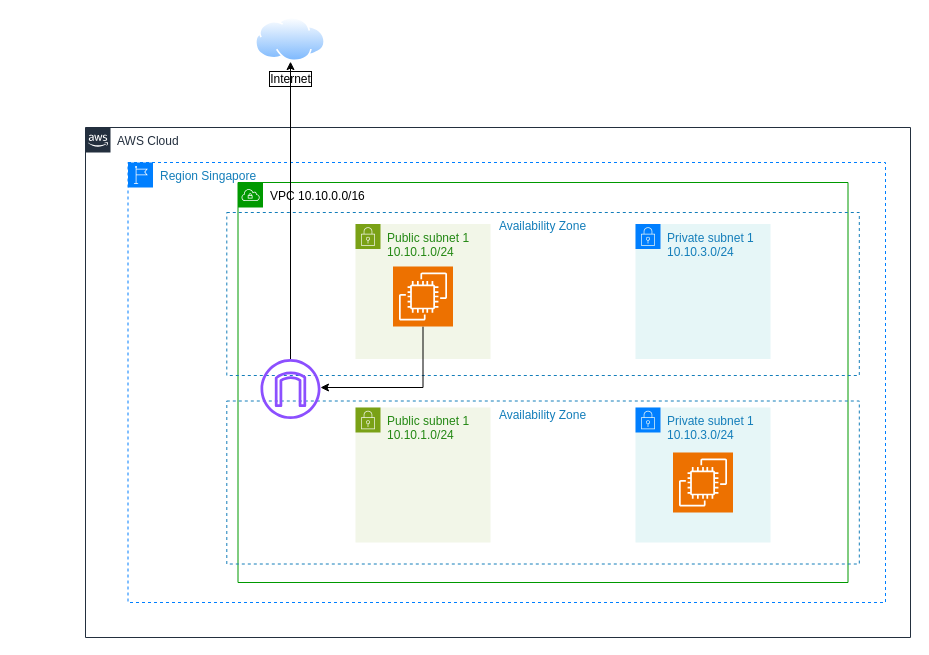
Some shapes in this 929 by 655 pixel diagram are drawn without their labels. The centre of each missing label's shape, as x and y in pixels:
"EC2 Private" goes at [702,482].
"EC2 Public" goes at [422,296].
"Internet Gateway" goes at [290,388].
